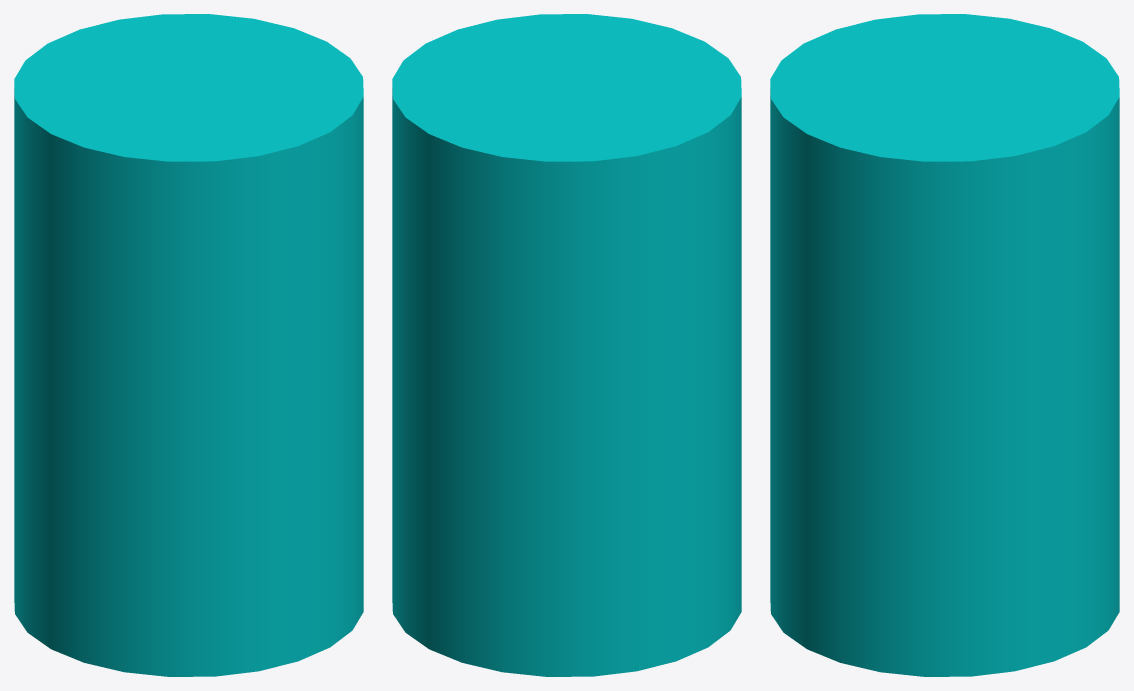
Rendered from figura01.fbx.
The picture shows the model from 3 angles, left to right: view 1: azimuth 30°, elevation 25°; view 2: azimuth 150°, elevation 25°; view 3: azimuth 270°, elevation 25°; orthographic projection.
Visible parts, largest first — view 1: Union; view 2: Union; view 3: Union.
Boxes of the visible parts, x1,y1,x2,y2 form: Union: [14, 14, 363, 676]; Union: [392, 14, 741, 676]; Union: [770, 14, 1119, 676].
Bounding box in the file's own units: 4284 × 6966 × 4284.
